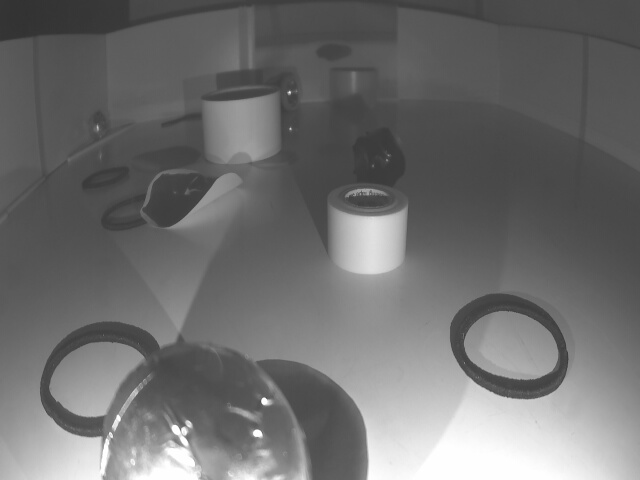Dead: (351, 125, 405, 188)
Live: (102, 338, 303, 480), (90, 112, 107, 135)
